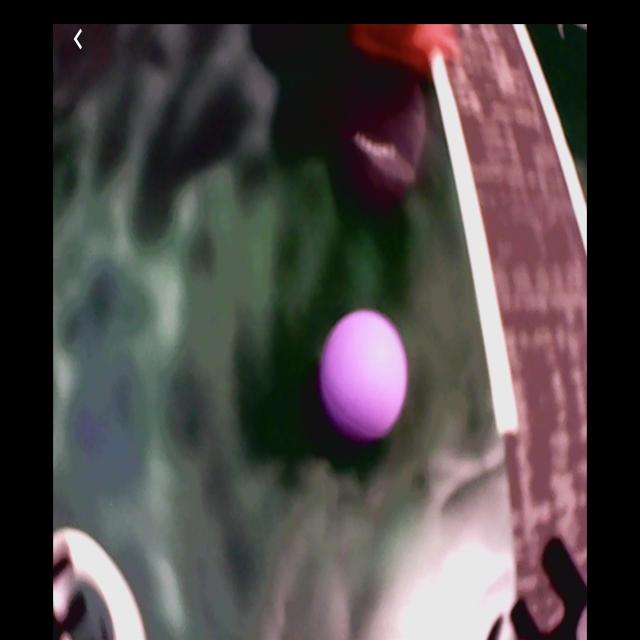ball: (324, 306, 409, 444)
